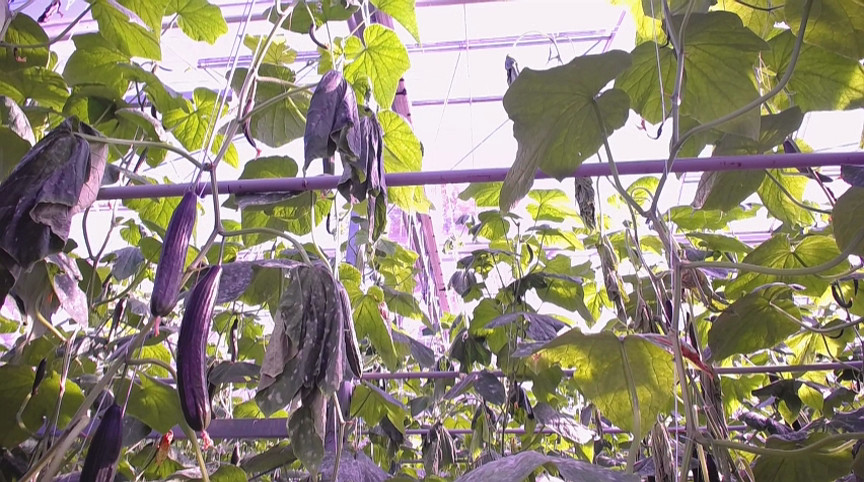cucumber: (177, 260, 224, 437), (151, 192, 199, 319), (81, 403, 127, 482)
